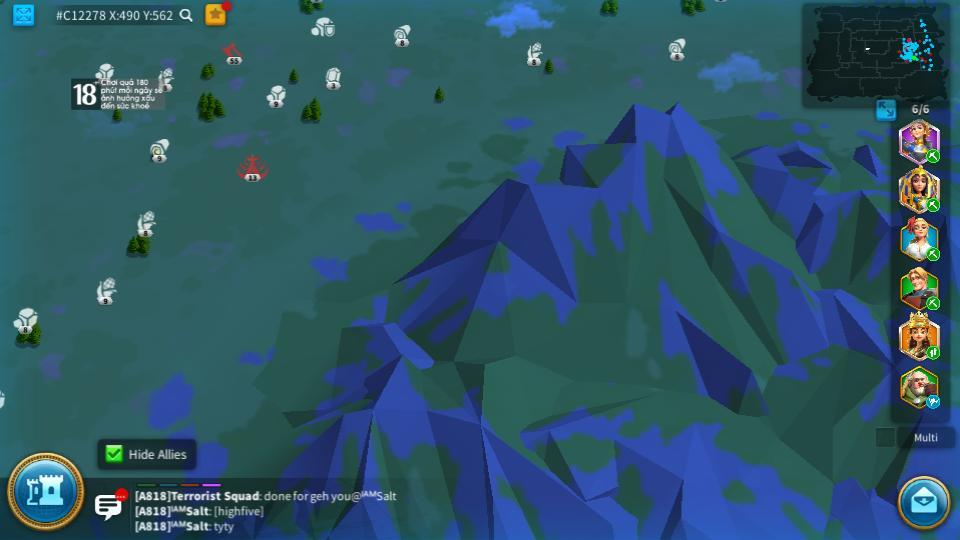gem-z-out: (324, 66, 343, 88)
march_idle: (925, 396, 942, 408)
march_marching: (925, 197, 941, 212), (925, 345, 941, 359), (925, 149, 941, 162), (925, 248, 941, 260), (925, 297, 941, 308)
